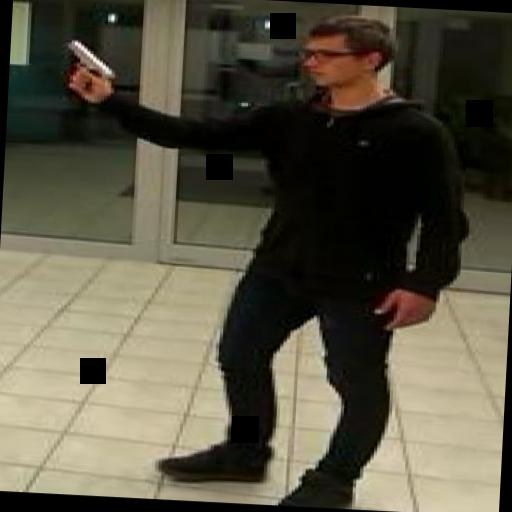Handgun: (56, 37, 120, 95)
